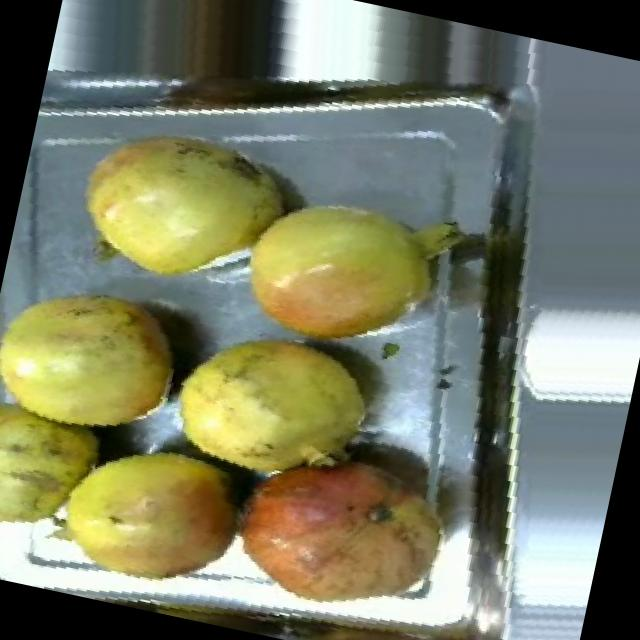fruit: (40, 87, 321, 328), (206, 157, 478, 392), (201, 415, 476, 640), (146, 304, 400, 512), (25, 414, 268, 616), (0, 255, 210, 468), (0, 374, 124, 565)
